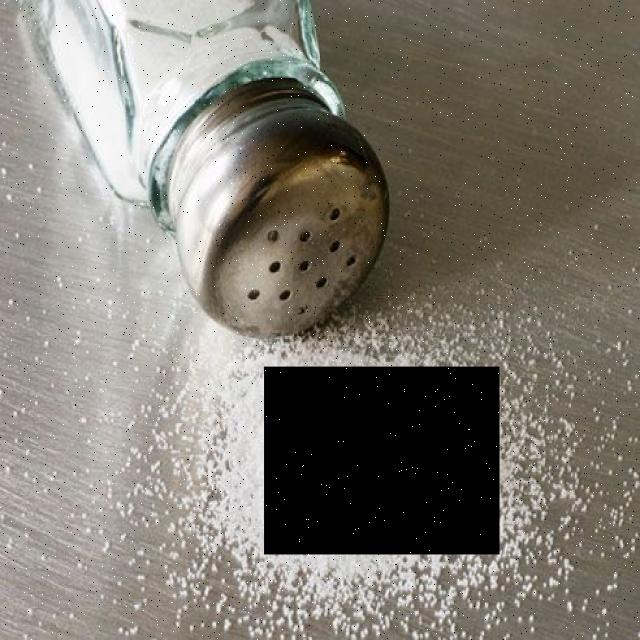Salt: (264, 368, 500, 556)
